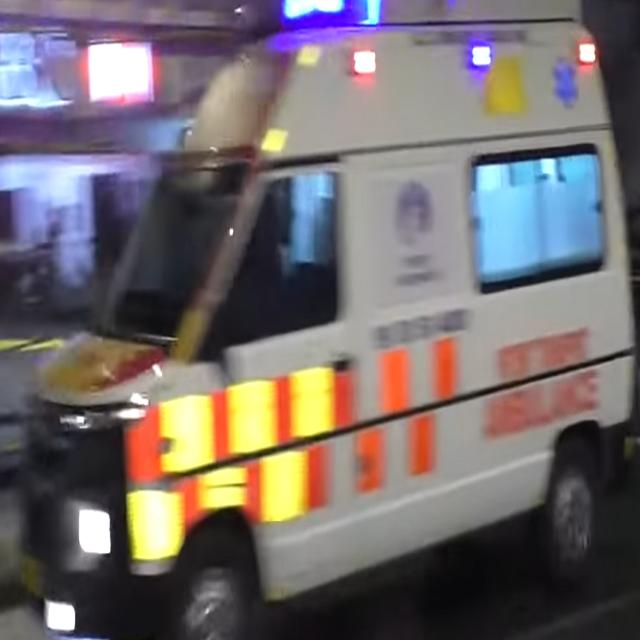ambulance: (11, 1, 637, 638)
